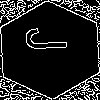J: (25, 25, 79, 53)
